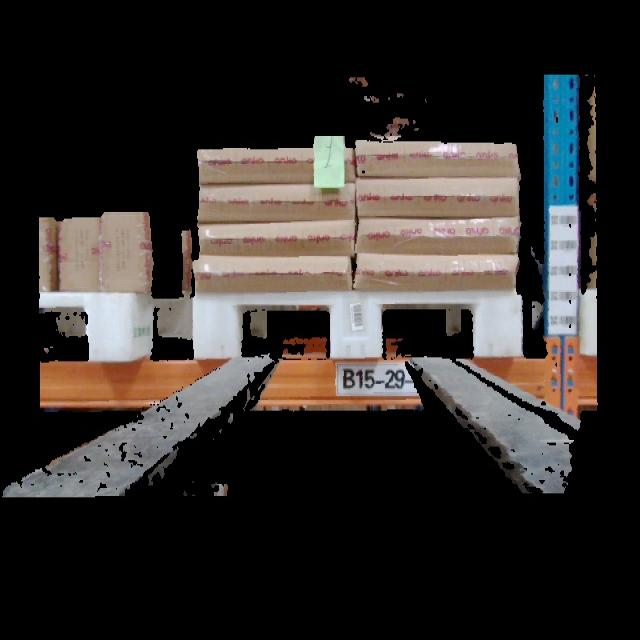block: (188, 295, 243, 362), (87, 297, 140, 364), (329, 299, 383, 360), (473, 302, 527, 357)
front: (187, 294, 527, 362)
